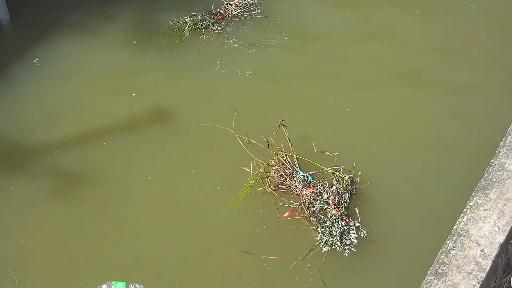plastic: (86, 272, 178, 288)
twig: (198, 116, 373, 261), (155, 0, 275, 46)
